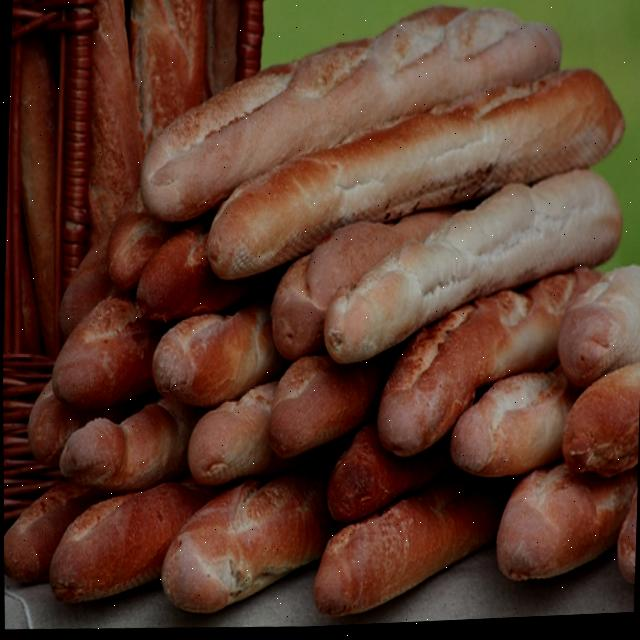面包点心: (5, 0, 640, 633)
